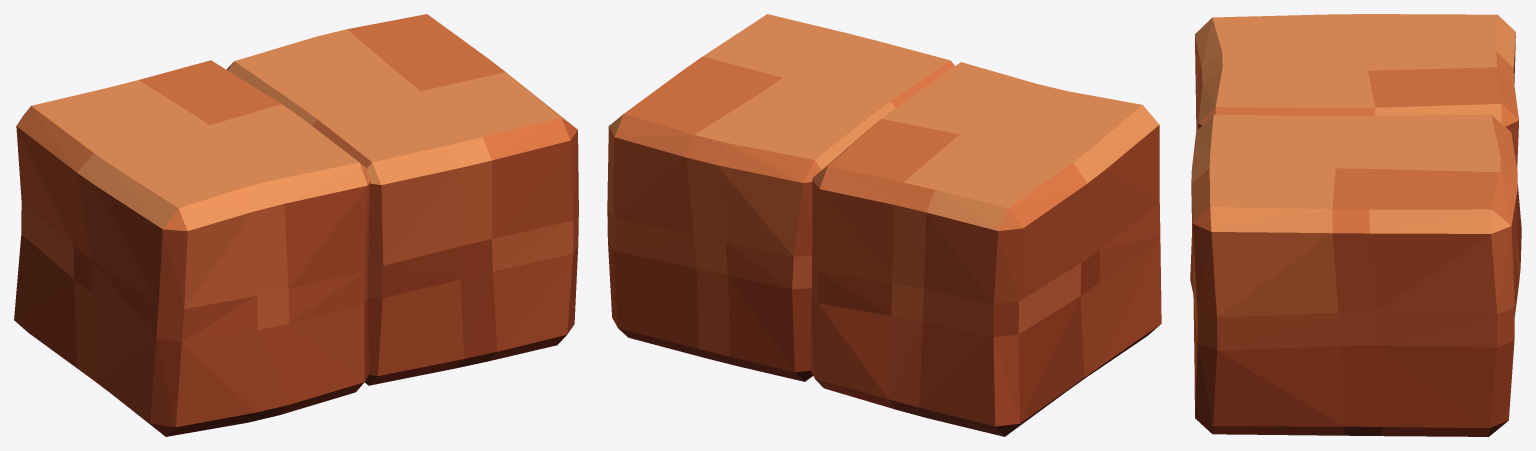
The model's file is SM_ROCK_S_11.fbx.
3 renders of one model, left to right at view 1: azimuth 30°, elevation 25°; view 2: azimuth 150°, elevation 25°; view 3: azimuth 270°, elevation 25°, orthographic. The views are drawn at different scales.
Parts seen in each view (by area): view 1: ROCK_S_11; view 2: ROCK_S_11; view 3: ROCK_S_11.
Boxes of the visible parts, x1,y1,x2,y2 form: ROCK_S_11: [14, 14, 578, 436]; ROCK_S_11: [607, 14, 1161, 436]; ROCK_S_11: [1190, 14, 1521, 436].
Bounding box in the file's own units: 1.34 × 0.8965 × 0.6888.
